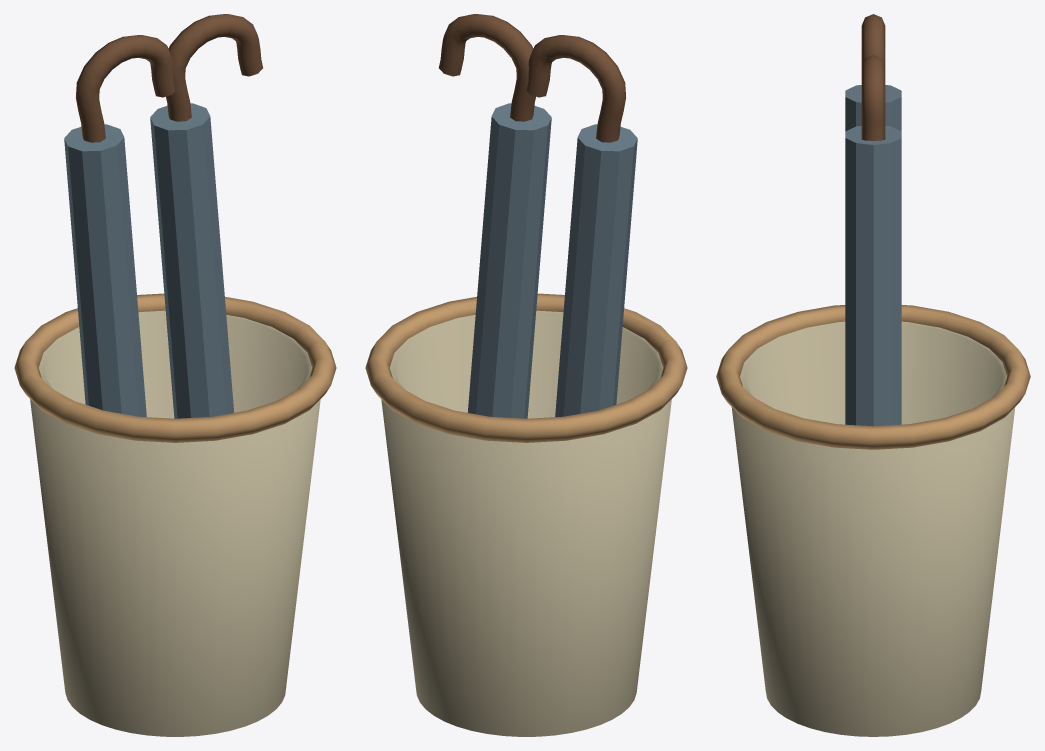
3 renders of one model, left to right at view 1: azimuth 30°, elevation 25°; view 2: azimuth 150°, elevation 25°; view 3: azimuth 270°, elevation 25°, orthographic. The views are drawn at different scales.
Visible parts, largest first — view 1: workshop_ceramic, workshop_blue, workshop_wood_edge, workshop_wood_dark; view 2: workshop_ceramic, workshop_blue, workshop_wood_edge, workshop_wood_dark; view 3: workshop_ceramic, workshop_blue, workshop_wood_edge, workshop_wood_dark.
Boxes of the visible parts, <box> form: workshop_ceramic: <box>30,310,320,736</box>; workshop_blue: <box>64,103,234,418</box>; workshop_wood_edge: <box>14,293,336,442</box>; workshop_wood_dark: <box>75,14,262,142</box>; workshop_ceramic: <box>381,310,671,736</box>; workshop_blue: <box>467,103,637,418</box>; workshop_wood_edge: <box>365,293,687,442</box>; workshop_wood_dark: <box>439,14,626,142</box>; workshop_ceramic: <box>731,321,1015,736</box>; workshop_blue: <box>845,85,901,426</box>; workshop_wood_edge: <box>716,305,1030,449</box>; workshop_wood_dark: <box>861,14,885,140</box>.
Size of the model in its own units: 0.584 by 1.33 by 0.584.
